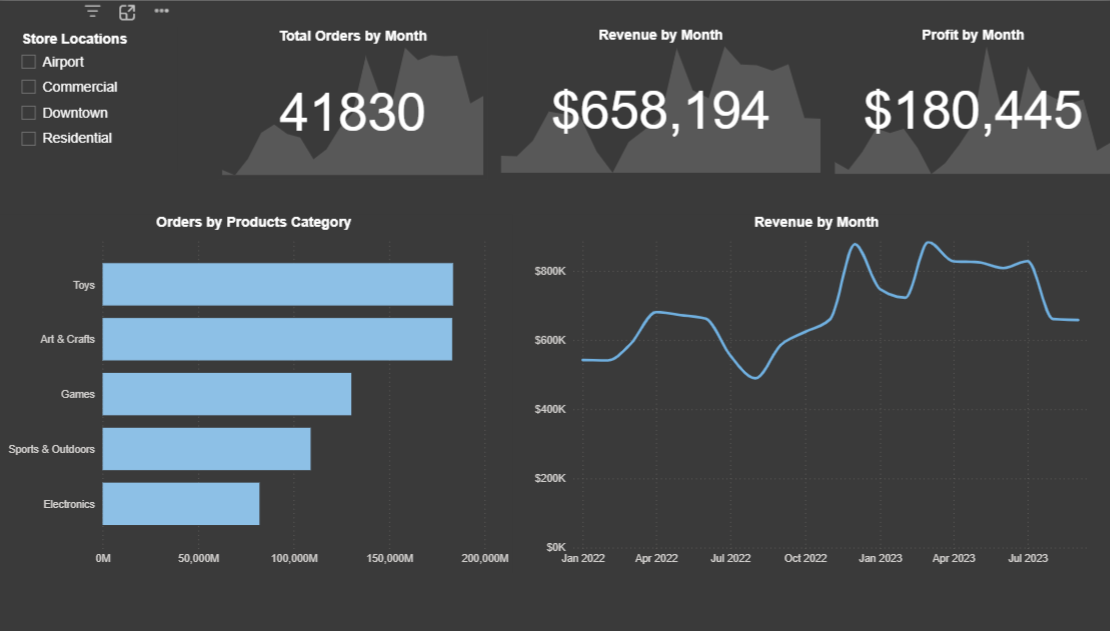

What the dashboard file says about the page in this screenshot:
{"tool":"powerbi","page":{"name":"Page 1","canvas":[1280,720],"ordinal":0},"visuals":[{"type":"kpi","title":"Total Orders by Month","fields":{"Indicator":["CountNonNull(sales.Total Orders)"],"TrendLine":["calendar.Start of Month"]},"box":[254.2,31.5,308.7,173.1],"z":0},{"type":"kpi","title":"Revenue by Month","fields":{"Indicator":["sales.Total Revenue"],"TrendLine":["calendar.Start of Month"]},"box":[572.6,30.3,375.3,171.9],"z":1000},{"type":"kpi","title":"Profit by Month","fields":{"Indicator":["sales.Total Profit"],"TrendLine":["calendar.Start of Month"]},"box":[953.9,30.3,325.6,173.1],"z":2000},{"type":"slicer","fields":{"Values":["stores.Store_Location"]},"box":[16.9,30.3,191.3,165.8],"z":3000},{"type":"clusteredBarChart","title":"Orders by Products Category","fields":{"Y":["Sum(sales.Total Orders)"],"Category":["products.Product_Category"]},"box":[0,244.2,591.4,408.6],"z":4000},{"type":"lineChart","title":"Revenue by Month","fields":{"Category":["calendar.Start of Month Hierarchy.Start of Month","calendar.Start of Month Hierarchy.Start of Week","calendar.Start of Month Hierarchy.Date"],"Y":["sales.Total Revenue"]},"box":[611,244.2,654,408.6],"z":5000}]}

Visuals, with their boxes on the page's 1280x720 design canvas (x1, y1, x2, y2). These are canvas units, not pixel positions in the 1110x631 screenshot, which may show the page scaled, cropped or inside an application window:
"Total Orders by Month" kpi: box(254, 32, 563, 205)
"Revenue by Month" kpi: box(573, 30, 948, 202)
"Profit by Month" kpi: box(954, 30, 1280, 203)
slicer - stores.Store_Location: box(17, 30, 208, 196)
"Orders by Products Category" clusteredBarChart: box(0, 244, 591, 653)
"Revenue by Month" lineChart: box(611, 244, 1265, 653)
